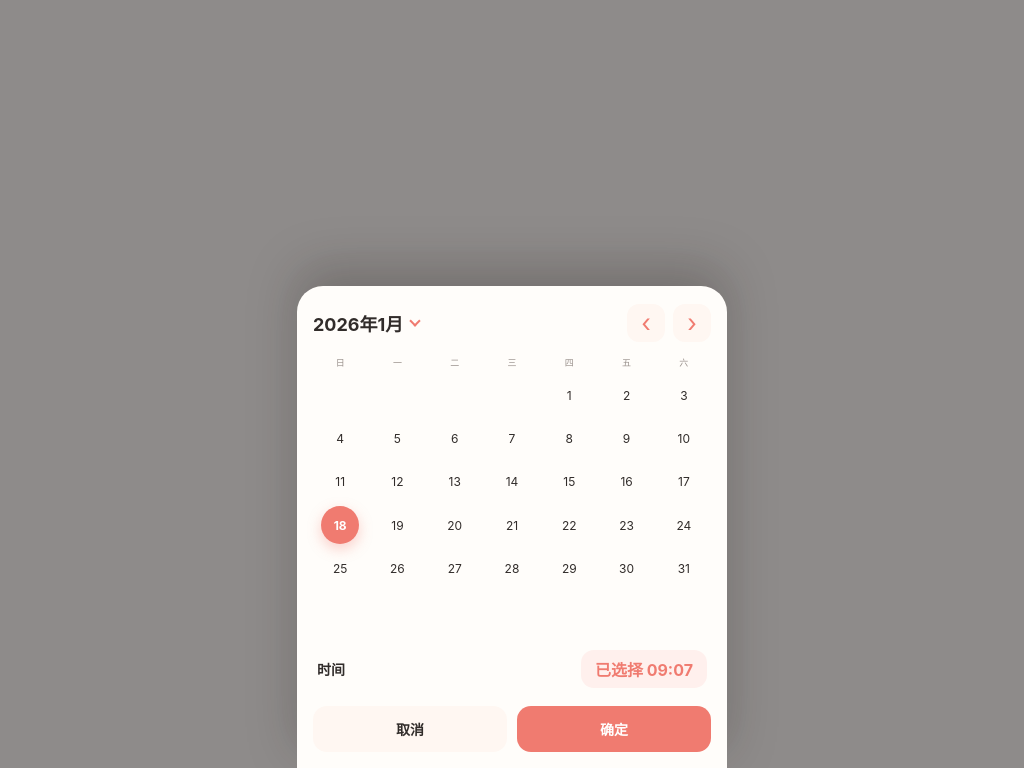
DateTimePickerSheet › moves across year boundaries with month navigation
Step 1. Click the button named "上个月" → x=646, y=323, box left=627, top=304, right=665, bottom=342
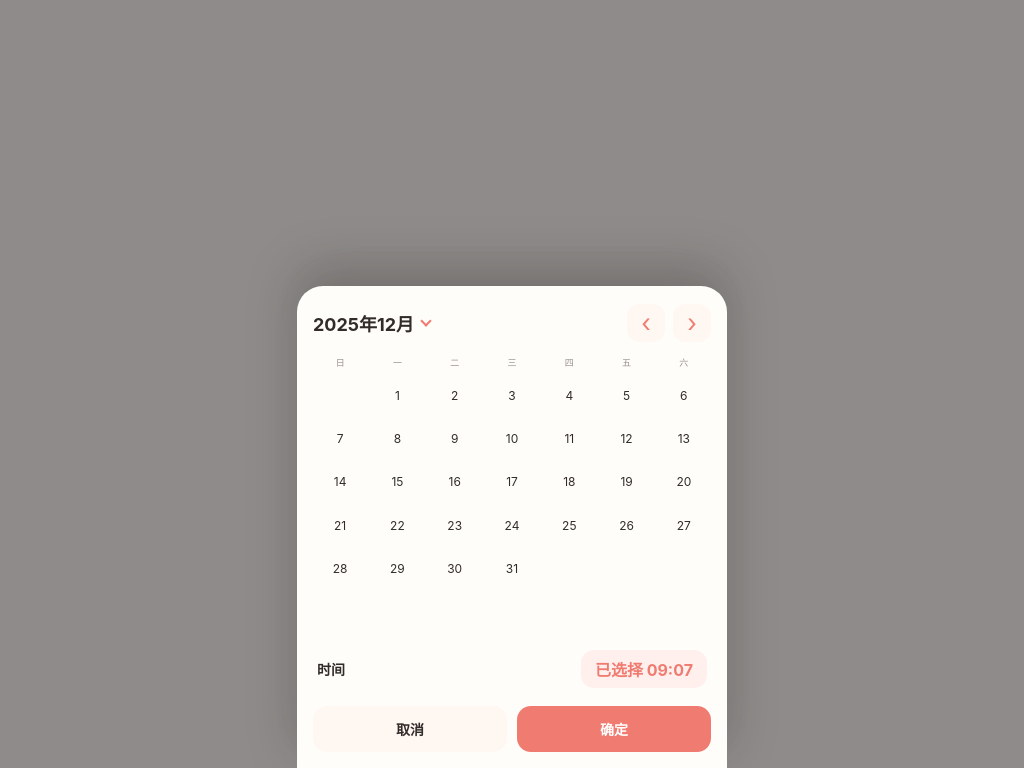
Now the button "2025年12月" is shown, box left=313, top=304, right=430, bottom=342
